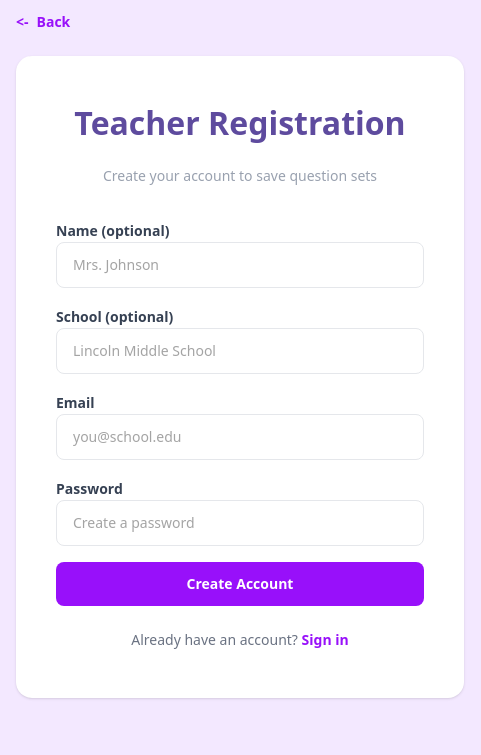
Test case: HostRegister › shows an error message when registration fails
In the field with placeholder "you@school.edu": (240, 437) [56,414,424,460], type "teacher@school.edu"
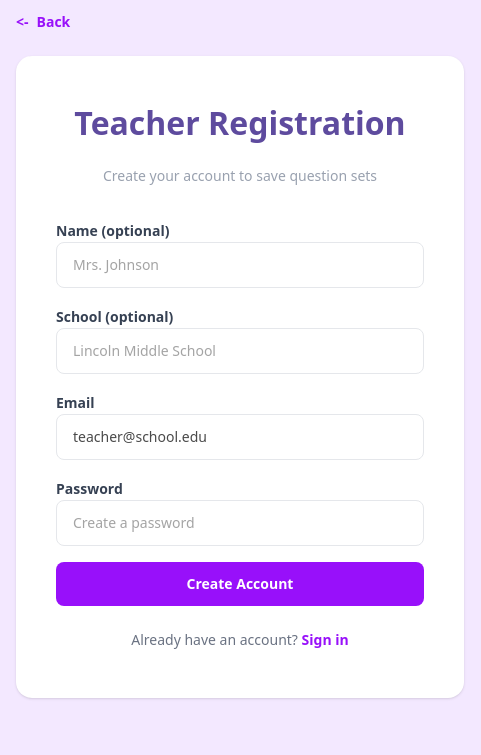
In the password field with placeholder "Create a password": (240, 523) [56,500,424,546], type "secret"
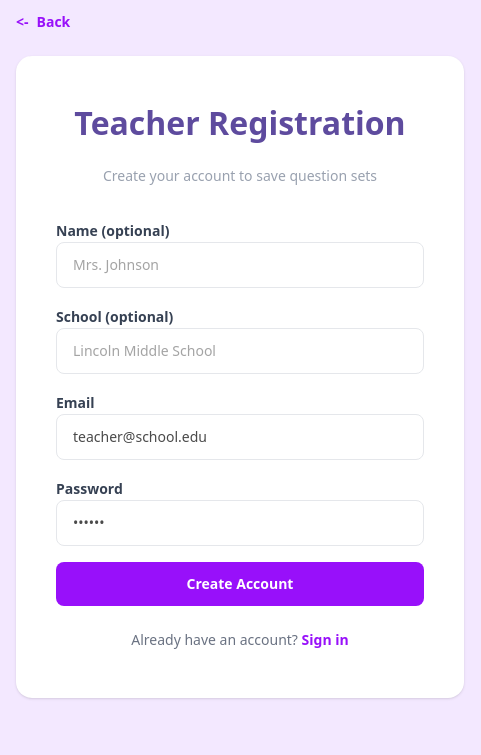
Click the button "Create Account": (240, 584) [56,562,424,606]
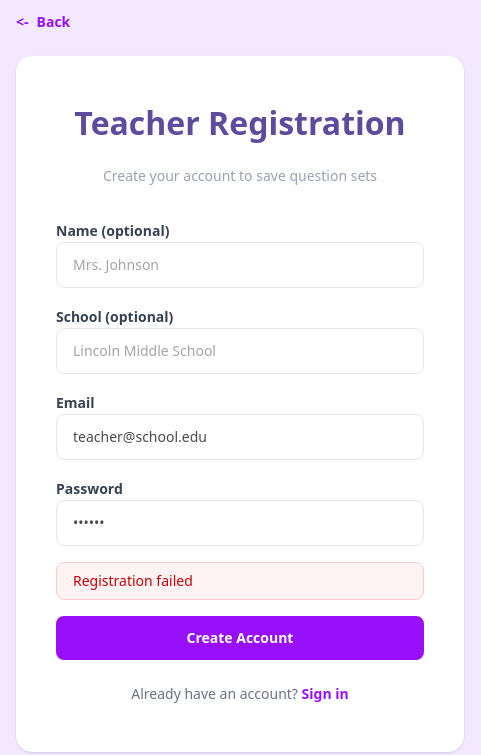
Check: the text "Registration failed" is shown, box [56,562,424,600]
